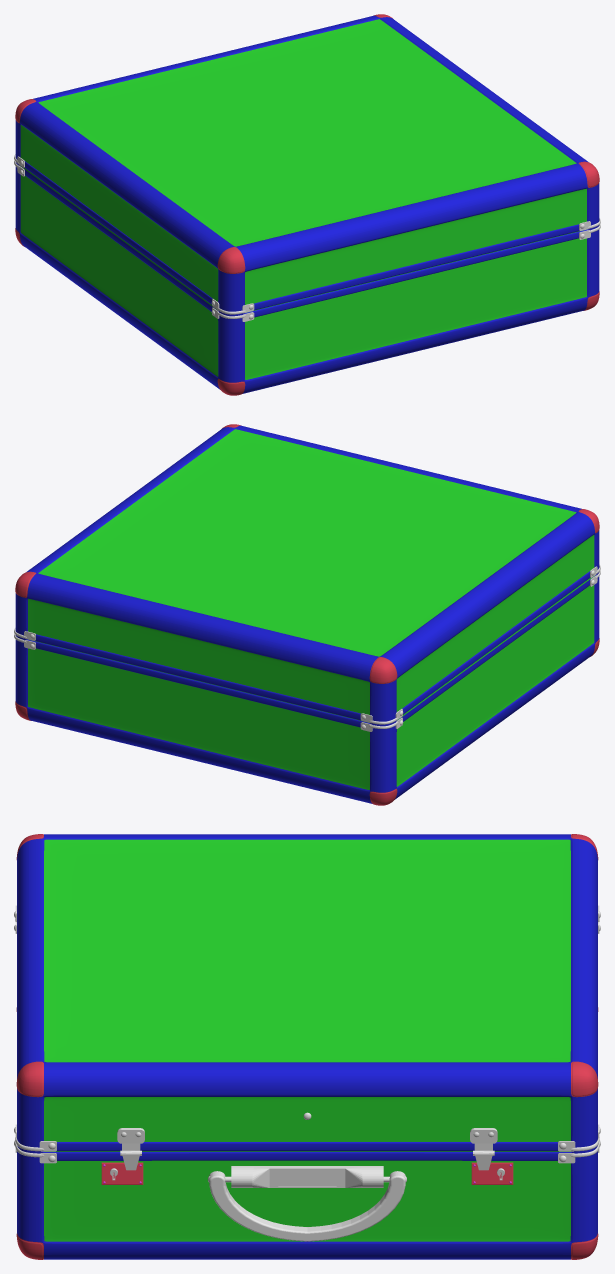
The model's file is case.fbx.
3 renders of one model, top to bottom at view 1: azimuth 30°, elevation 25°; view 2: azimuth 150°, elevation 25°; view 3: azimuth 270°, elevation 25°, orthographic. The views are drawn at different scales.
Parts seen in each view (by area): view 1: case, pod knopkami; view 2: case, pod knopkami; view 3: case, ruchka, pod ruchkoi, 4 chast zamka, 1 chast zamka, pod knopkami.
Boxes of the visible parts, box(x1,y1,x2,y2) form: case: box(15, 14, 599, 395); pod knopkami: box(17, 156, 590, 321); case: box(15, 424, 599, 805); pod knopkami: box(24, 566, 597, 731); case: box(16, 834, 598, 1259); ruchka: box(209, 1171, 405, 1241); pod ruchkoi: box(231, 1166, 383, 1187); 4 chast zamka: box(101, 1162, 513, 1184); 1 chast zamka: box(117, 1128, 497, 1150); pod knopkami: box(15, 905, 599, 1163).
Bounding box in the file's own units: 206 × 73.78 × 202.
